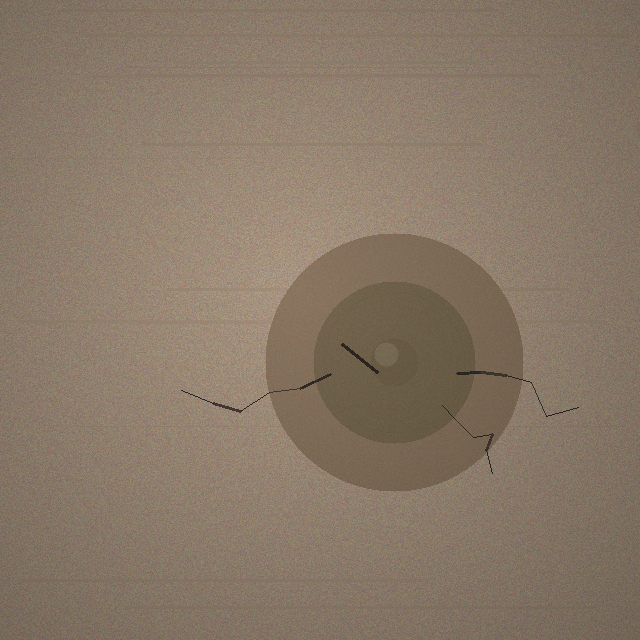crack: (265, 233, 523, 491)
